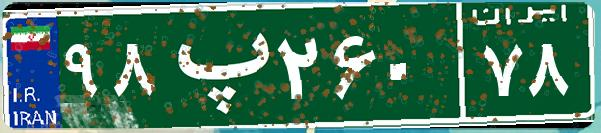0: (385, 28, 445, 110)
2: (273, 28, 330, 110)
6: (330, 28, 385, 110)
7: (475, 38, 525, 113)
8: (110, 28, 158, 105), (525, 38, 570, 115)
9: (57, 26, 110, 107)
پ: (158, 15, 273, 115)
